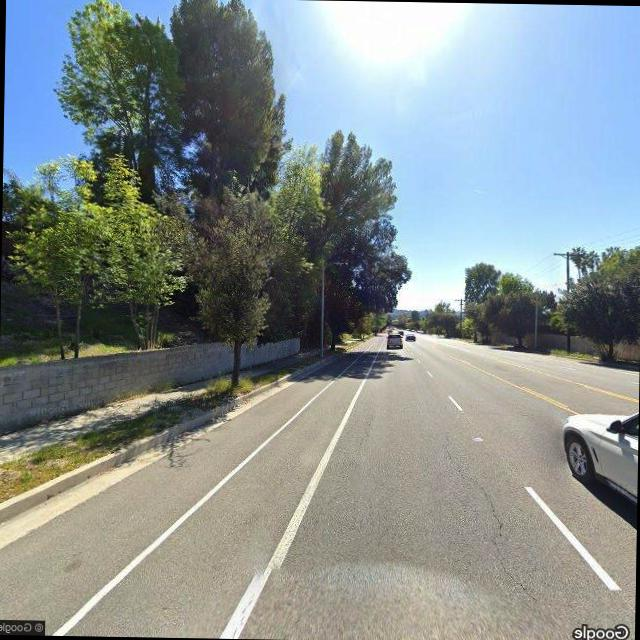pothole: (473, 478, 538, 603)
